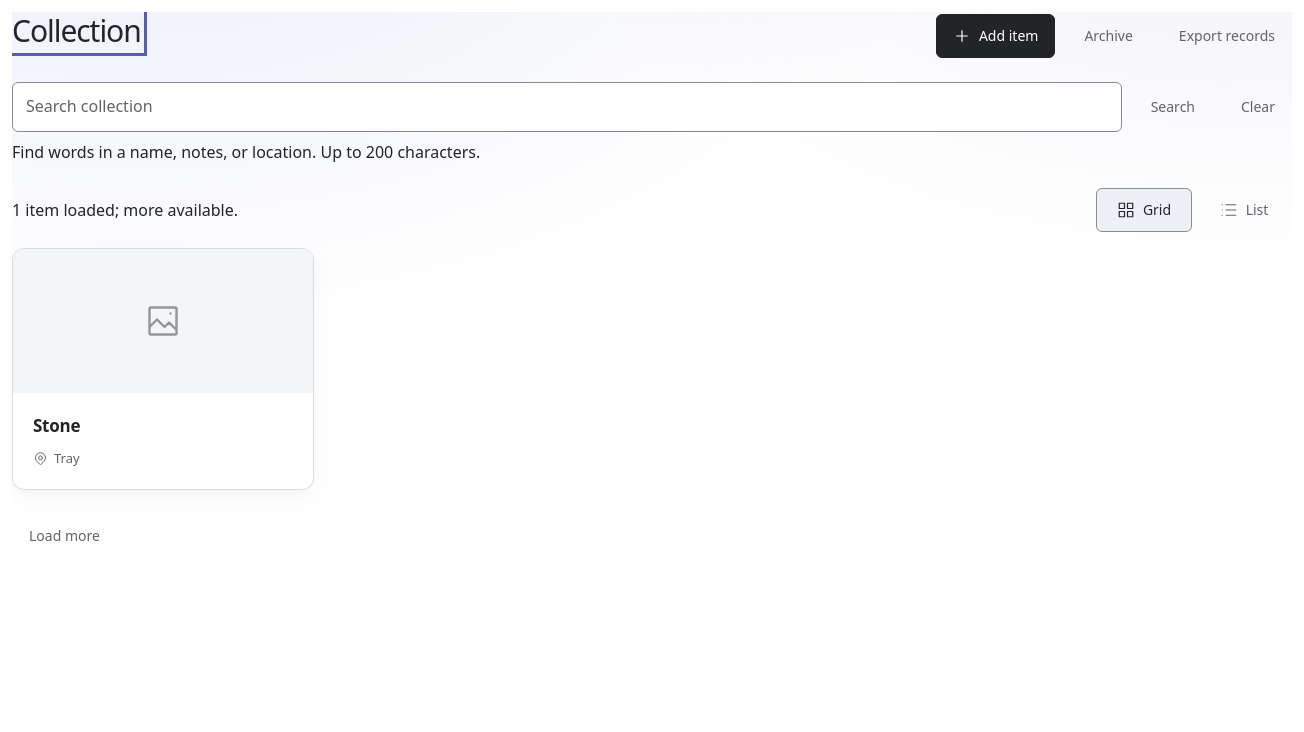
Test case: restarts a mounted collection after a late detail mutation invalidates it
The image size is (1304, 732).
Note: WHEN a late mutation finishes THEN the visible list refreshes without retaining the old page boundary.
Click the button "Grid" at (1144, 210), box [1096,188,1192,232]
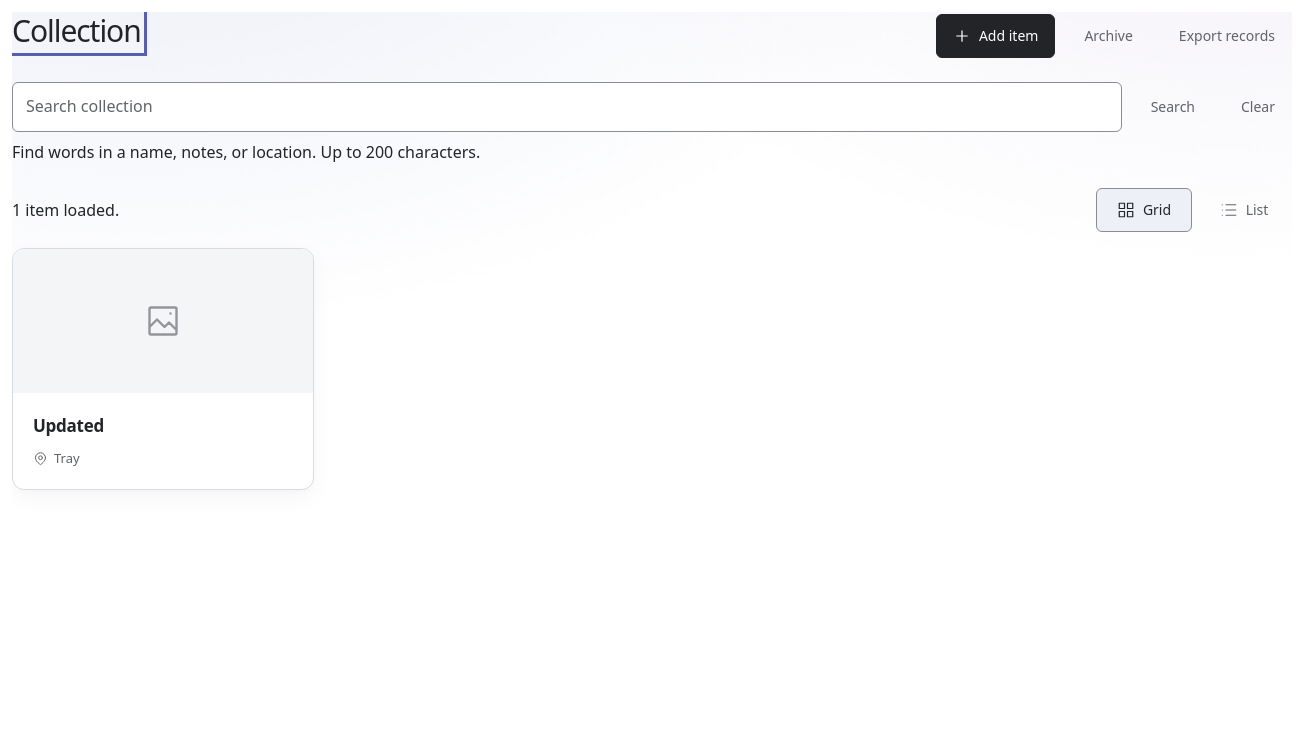
Result: the link "Updated Tray" is shown at [12,248,314,490]
Result: the button "Load more" is gone
